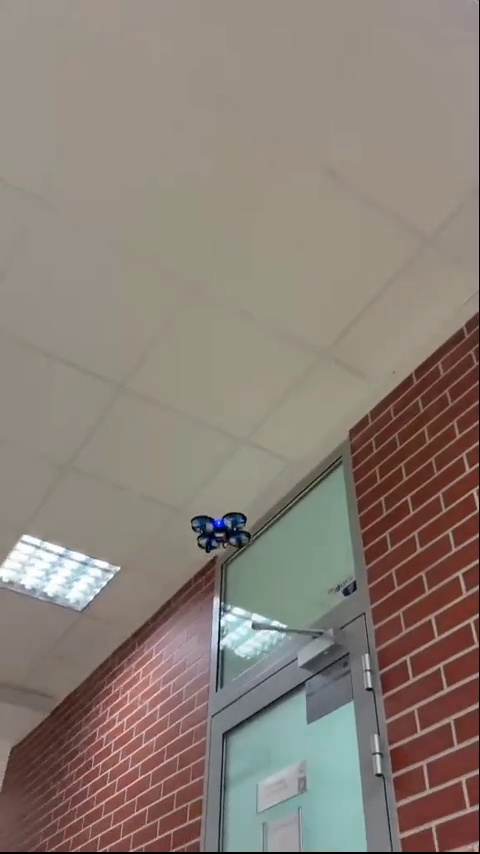drone: (188, 515, 252, 557)
